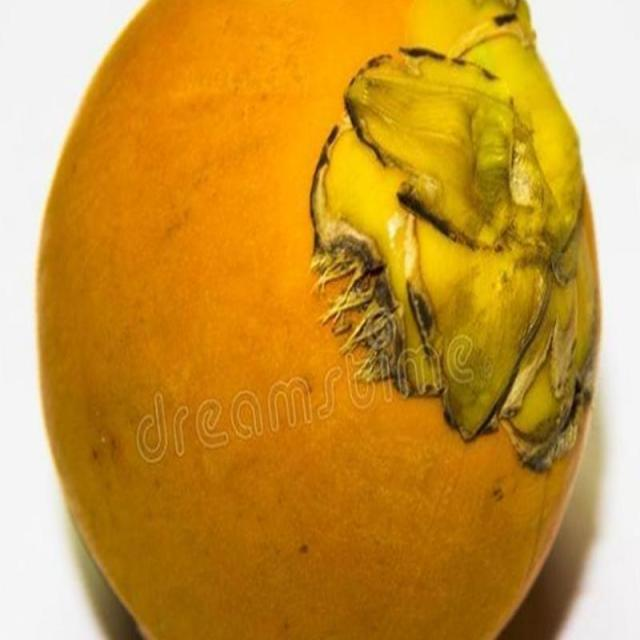good: (33, 0, 605, 639)
